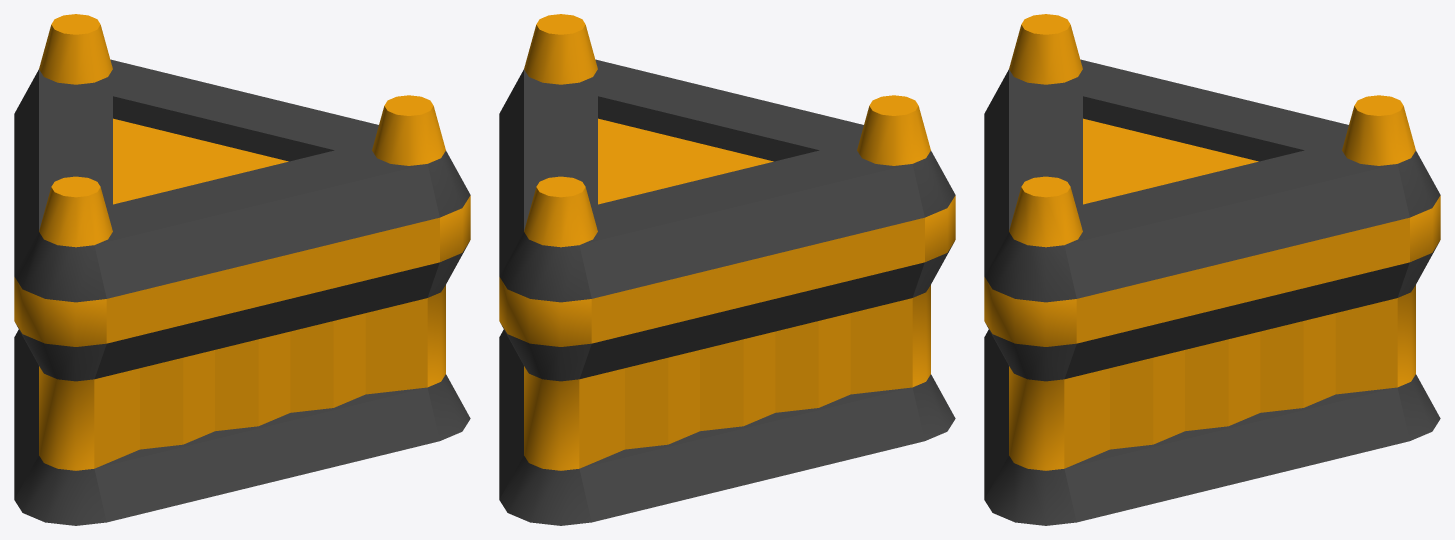
File: KickerEquilateral.fbx
The picture shows the model from 3 angles, left to right: view 1: azimuth 30°, elevation 25°; view 2: azimuth 150°, elevation 25°; view 3: azimuth 270°, elevation 25°; orthographic projection.
Visible parts, largest first — view 1: KickerEquilateral; view 2: KickerEquilateral; view 3: KickerEquilateral.
Boxes of the visible parts, x1,y1,x2,y2 form: KickerEquilateral: (14,14,470,525); KickerEquilateral: (499,14,955,525); KickerEquilateral: (984,14,1440,525).
Bounding box in the file's own units: 103 × 70 × 92.5.
